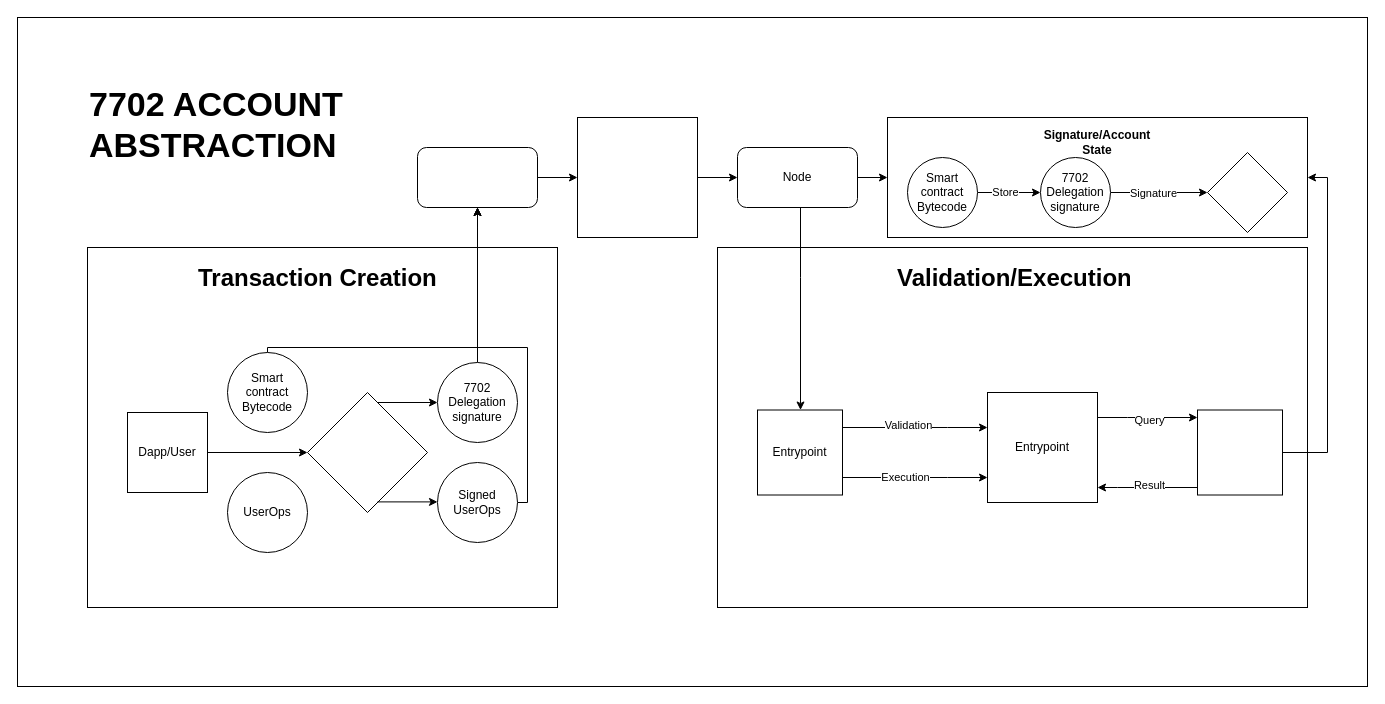
Some shapes in this 1385 by 704 pixel diagram are drawn without their labels. Each missing label, with the centre of its shape:
7702 Tx: [477,177]
Account Storage: [1239,452]
Bundler: [637,177]
EOA: [367,452]
Is EOA: [1247,192]
